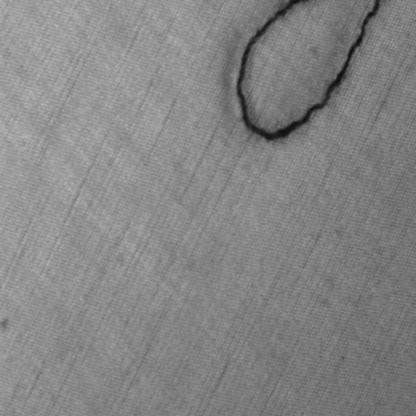objects: (230, 0, 383, 146)
